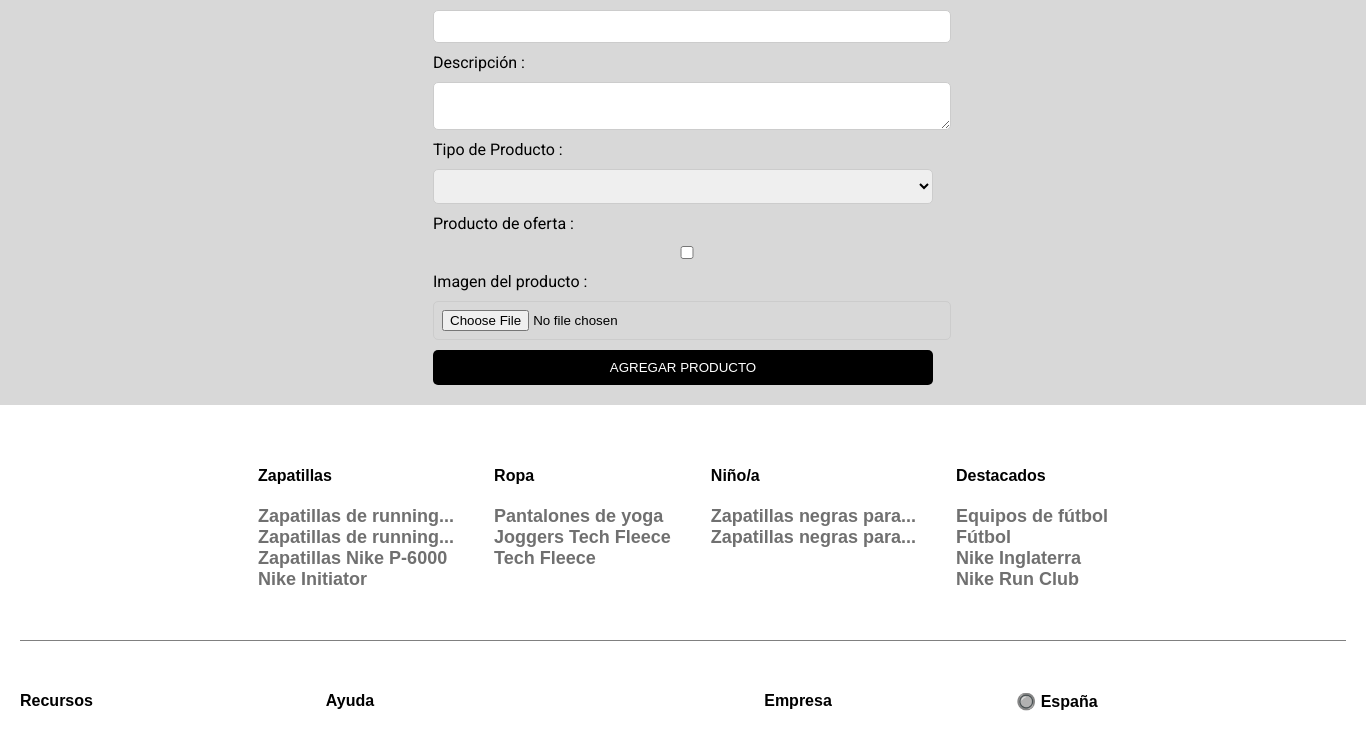
Scenario: Admin Product Form › Should show validation errors when submitting empty form
(page scrolled)
Click the submit button: (683, 368) x1=433 y1=350 x2=933 y2=385
(page scrolled)
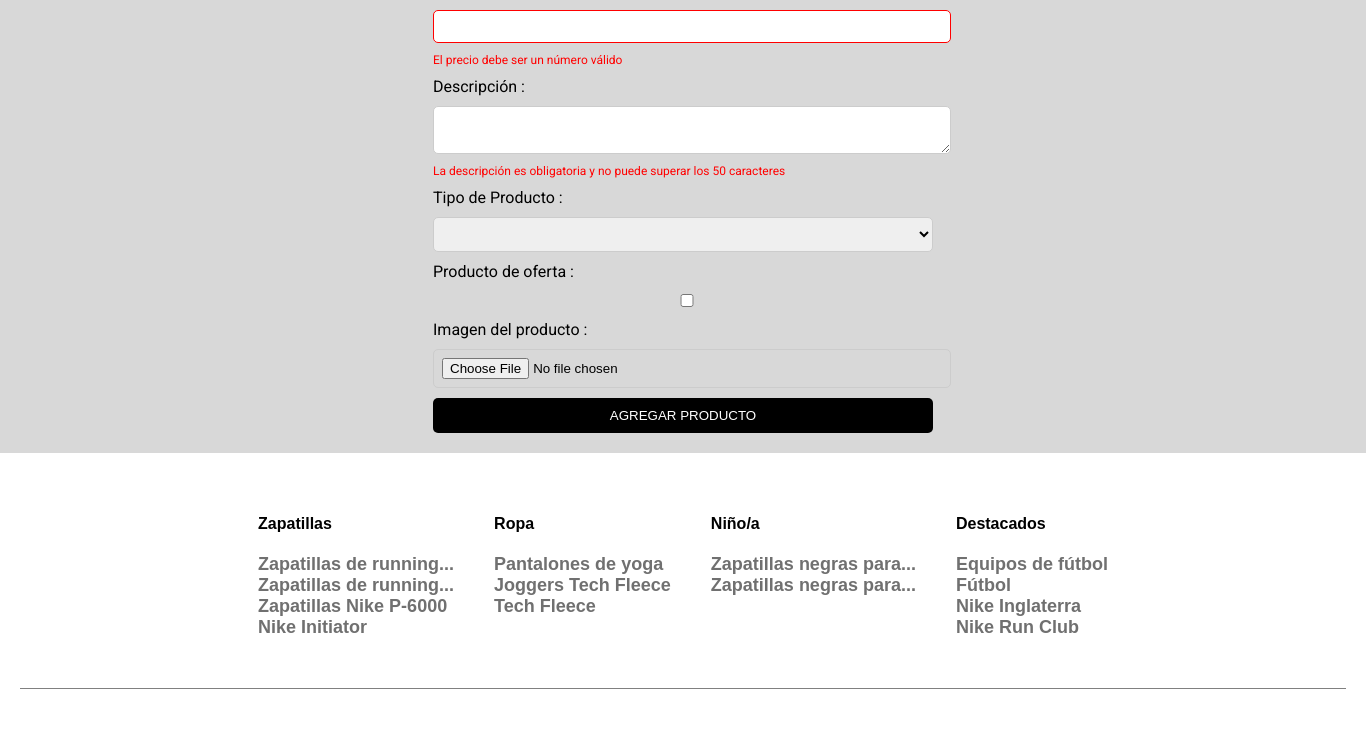
Now the text with class "error-message" reads "El precio debe ser un número válido", box x1=433 y1=53 x2=622 y2=67
Now the text with class "error-message" shows "La descripción es obligatoria", box x1=433 y1=164 x2=785 y2=178
